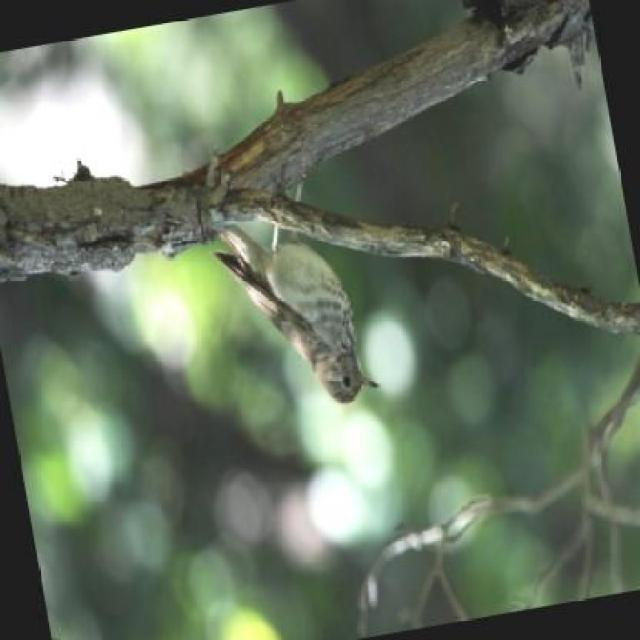Bird: (211, 215, 404, 406)
